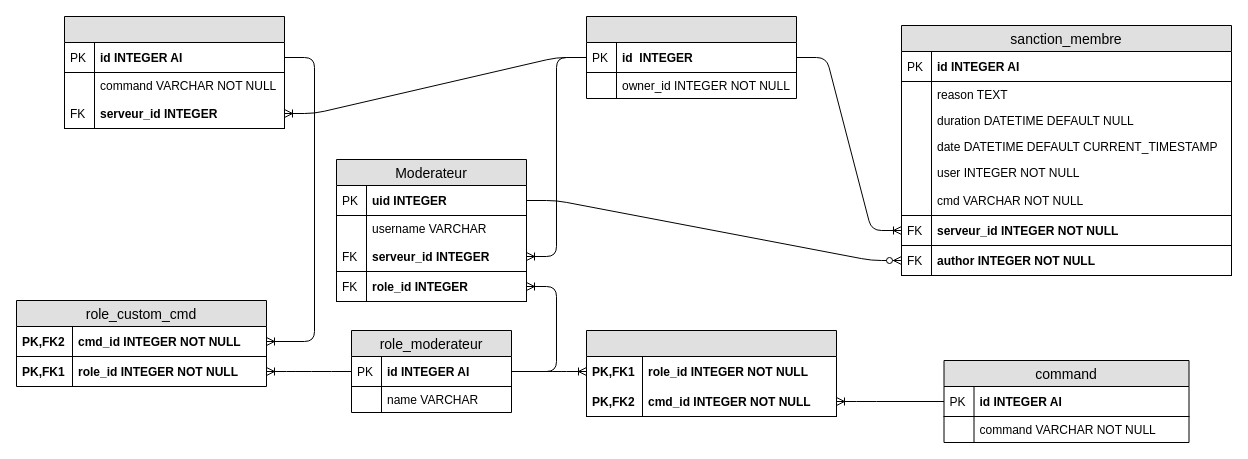
The diagram is 1248 pixels wide and 459 high, and some of its shapes have lost their labels. The shapes that lost their labels are listed below. From the top down, each one's box as (x1, y1, x2, y2) in pixels, then its label:
(64, 16, 284, 128): custom_command
(586, 16, 796, 98): Serveur
(586, 330, 836, 416): role_cmd
